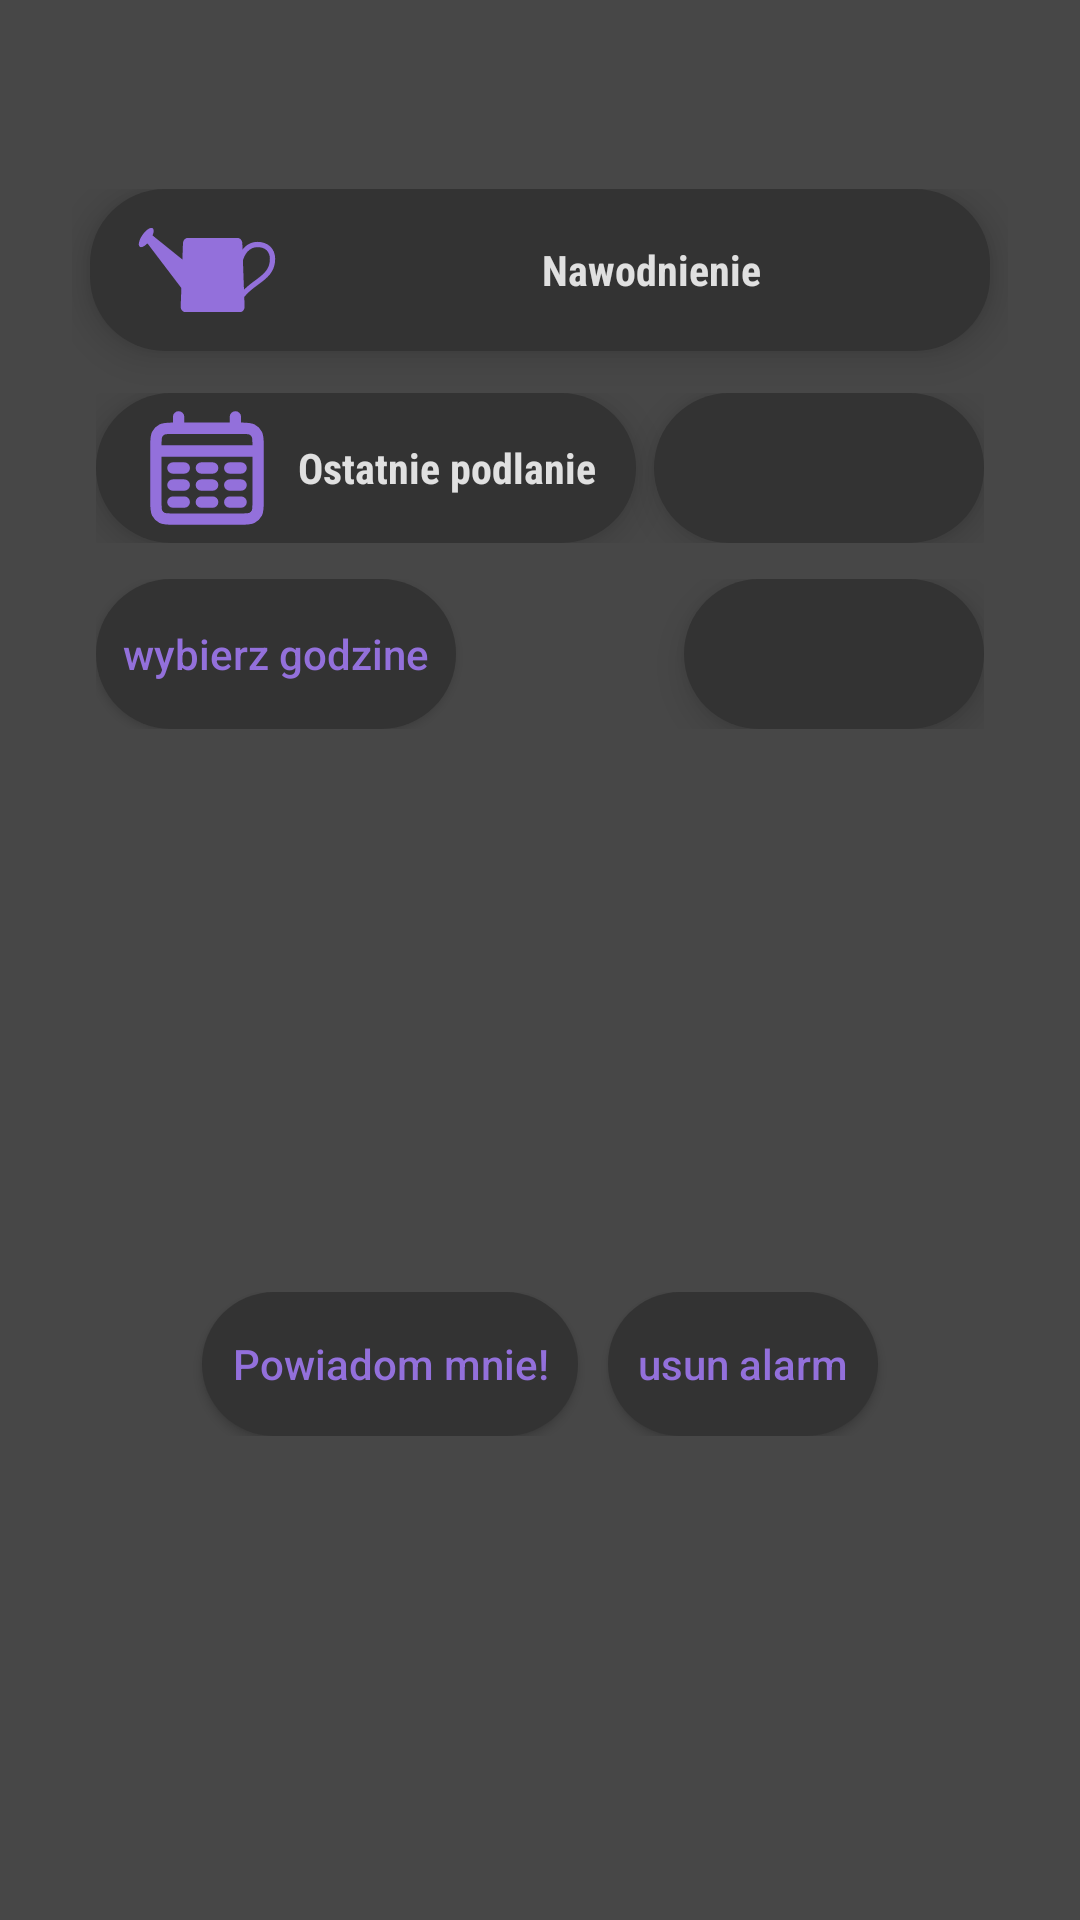

Icon click points for this 1080px×1920px phone screenshot, format point (x, y):
calendar: point (207, 468)
watering can: point (207, 270)
